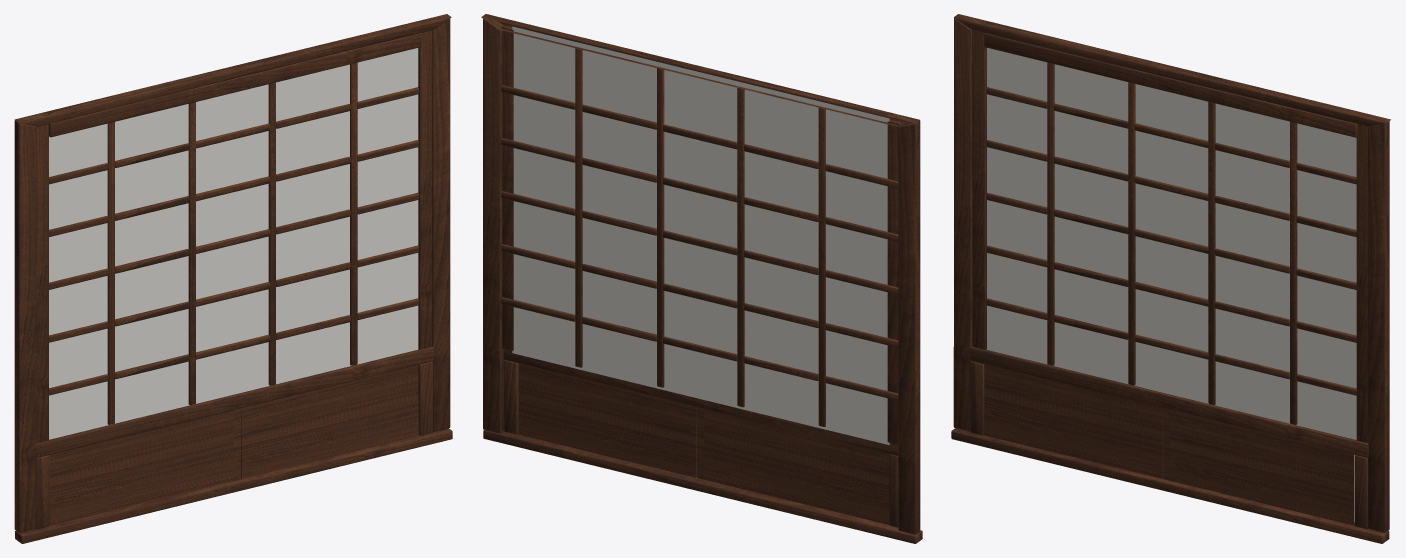
The model's file is shoji.gltf.
3 renders of one model, left to right at view 1: azimuth 30°, elevation 25°; view 2: azimuth 150°, elevation 25°; view 3: azimuth 330°, elevation 25°, orthographic.
Visible parts, largest first — view 1: Plane.006; view 2: Plane.006; view 3: Plane.006.
Part boxes in pixels (x1=…): Plane.006: x1=14, y1=14, x2=452, y2=543; Plane.006: x1=481, y1=14, x2=922, y2=543; Plane.006: x1=951, y1=14, x2=1390, y2=543.
Size of the model in its own units: 2.1 by 1.94 by 0.0643.
Materials: 2 (1 with a texture image).
